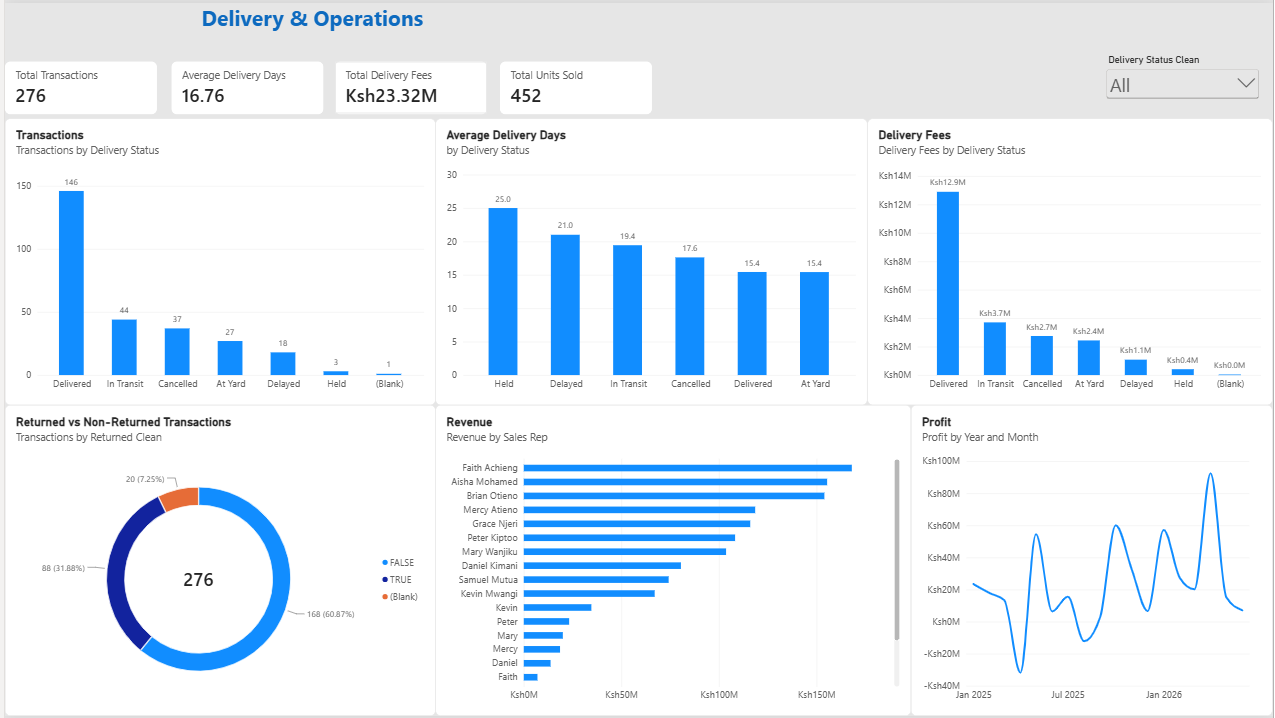

This screenshot's page, from the dashboard's own definition file:
{"tool":"powerbi","page":{"name":"Delivery & Operations","canvas":[1920,1080],"ordinal":2},"visuals":[{"type":"clusteredColumnChart","title":"Transactions","fields":{"Category":["Dim Delivery.Delivery Status Clean"],"Y":["Fact Sales.Total Transactions"]},"box":[0,174.9,651.9,433.8],"z":0},{"type":"clusteredColumnChart","fields":{"Category":["Dim Delivery.Delivery Status Clean"],"Y":["Fact Sales.Average Delivery Days"]},"box":[651.9,174.9,654.1,433.8],"z":1000},{"type":"clusteredColumnChart","title":"Delivery Fees","fields":{"Category":["Dim Delivery.Delivery Status Clean"],"Y":["Fact Sales.Total Delivery Fees"]},"box":[1306,174.9,613.3,433.8],"z":2000},{"type":"donutChart","title":"Returned vs Non-Returned Transactions","fields":{"Category":["Dim Delivery.Returned Clean"],"Y":["Fact Sales.Total Transactions"]},"box":[0,609.5,652,470.6],"z":3000},{"type":"clusteredBarChart","title":"Revenue","fields":{"Category":["Dim Sales.Sales Rep"],"Y":["Fact Sales.Total Revenue"]},"box":[652,609.5,720,470.6],"z":4000},{"type":"lineChart","title":"Profit","fields":{"Category":["Dim Date.Date.Variation.Date Hierarchy.Year","Dim Date.Date.Variation.Date Hierarchy.Month"],"Y":["Fact Sales.Total Profit"]},"box":[1372,609.5,547.1,470.6],"z":5000},{"type":"textbox","box":[297.6,0,739.8,87.9],"z":6000},{"type":"cardVisual","fields":{"Data":["Fact Sales.Total Transactions"]},"box":[0,88.6,230,80],"z":7000},{"type":"cardVisual","fields":{"Data":["Fact Sales.Average Delivery Days"]},"box":[252.1,88.6,230,80],"z":8000},{"type":"cardVisual","fields":{"Data":["Fact Sales.Total Delivery Fees"]},"box":[499.7,88.6,230,80],"z":9000},{"type":"cardVisual","fields":{"Data":["Fact Sales.Total Units Sold"]},"box":[749.5,88.6,230,80],"z":10000},{"type":"slicer","fields":{"Values":["Dim Delivery.Delivery Status Clean"]},"box":[1662.6,77.2,240.8,90.9],"z":11000}]}

Visuals, with their boxes in screenshot pixels (x1, y1, x2, y2), scaled from the page's 1920x1080 canvas onto the 1275x718 screenshot:
"Transactions" clusteredColumnChart: x1=0, y1=116, x2=433, y2=405
clusteredColumnChart - Dim Delivery.Delivery Status Clean x Fact Sales.Average Delivery Days: x1=433, y1=116, x2=867, y2=405
"Delivery Fees" clusteredColumnChart: x1=867, y1=116, x2=1274, y2=405
"Returned vs Non-Returned Transactions" donutChart: x1=0, y1=405, x2=433, y2=717
"Revenue" clusteredBarChart: x1=433, y1=405, x2=911, y2=717
"Profit" lineChart: x1=911, y1=405, x2=1274, y2=717
textbox: x1=198, y1=0, x2=689, y2=58
cardVisual - Fact Sales.Total Transactions: x1=0, y1=59, x2=153, y2=112
cardVisual - Fact Sales.Average Delivery Days: x1=167, y1=59, x2=320, y2=112
cardVisual - Fact Sales.Total Delivery Fees: x1=332, y1=59, x2=485, y2=112
cardVisual - Fact Sales.Total Units Sold: x1=498, y1=59, x2=650, y2=112
slicer - Dim Delivery.Delivery Status Clean: x1=1104, y1=51, x2=1264, y2=112
